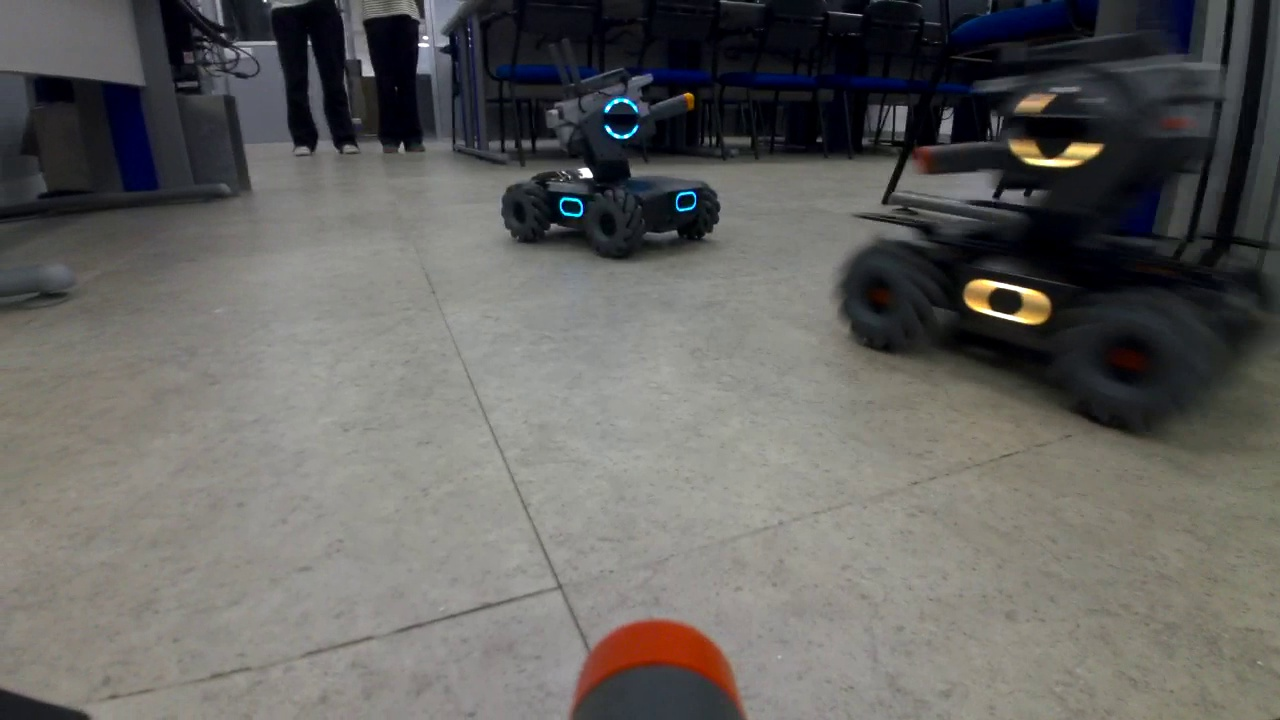robot: (833, 56, 1274, 439), (499, 66, 724, 264)
